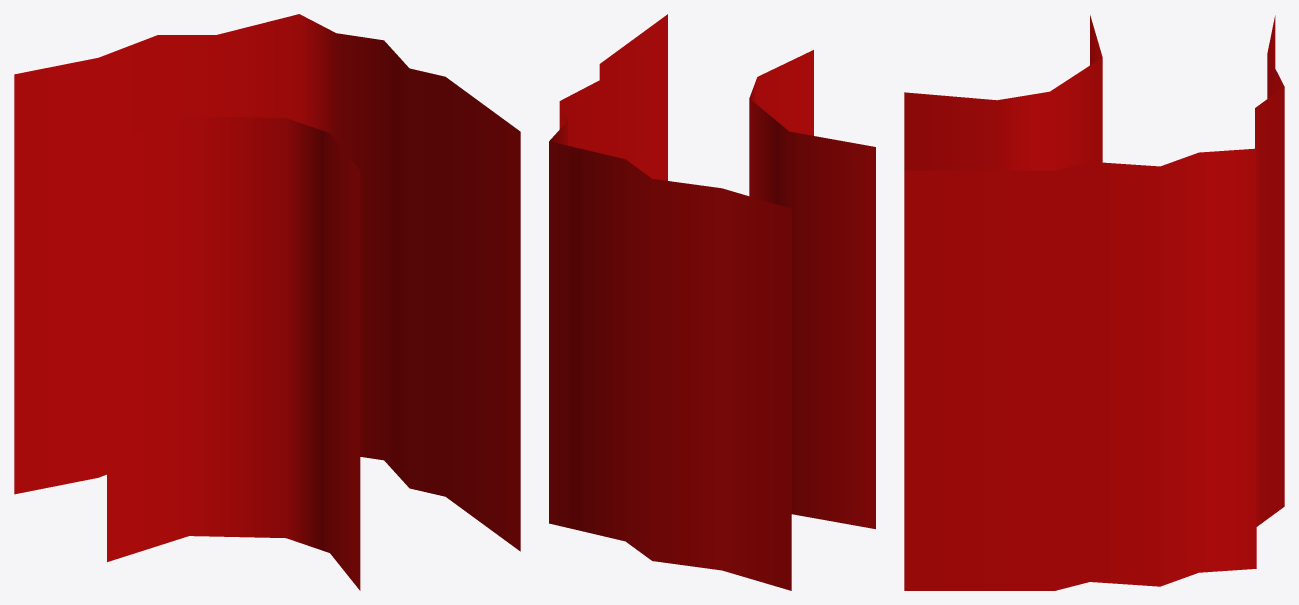
The picture shows the model from 3 angles, left to right: view 1: azimuth 30°, elevation 25°; view 2: azimuth 150°, elevation 25°; view 3: azimuth 270°, elevation 25°; orthographic projection. The views are drawn at different scales.
Visible parts, largest first — view 1: BG001_1018_00_c02; view 2: BG001_1018_00_c02; view 3: BG001_1018_00_c02.
Part boxes in pixels (left/top/right/bottom): BG001_1018_00_c02: left=14, top=14, right=520, bottom=590; BG001_1018_00_c02: left=549, top=14, right=875, bottom=590; BG001_1018_00_c02: left=904, top=15, right=1284, bottom=590.
Size of the model in its own units: 800 by 1000 by 820.
